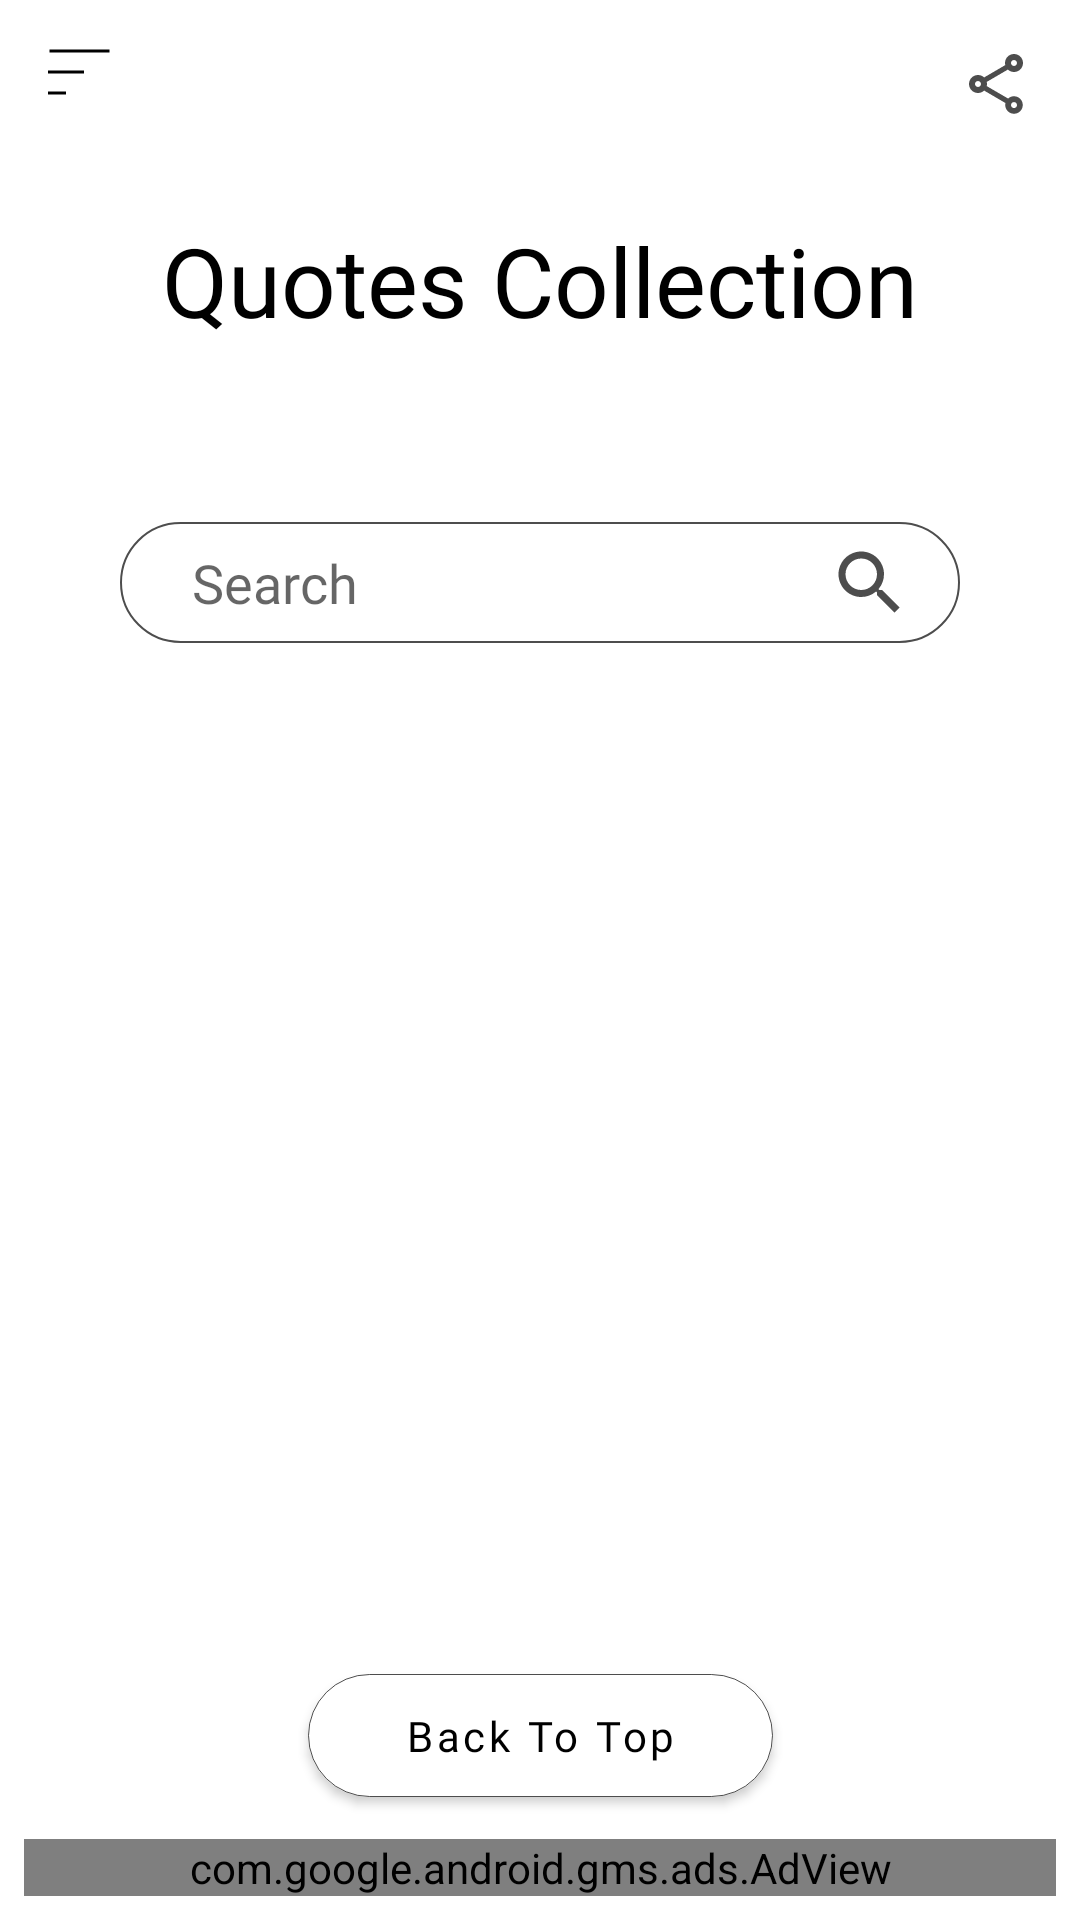

Screen size 1080w x 1920h. Icon name, then its center in pixels as [x,y]:
menu: [79,72]
share: [996,84]
